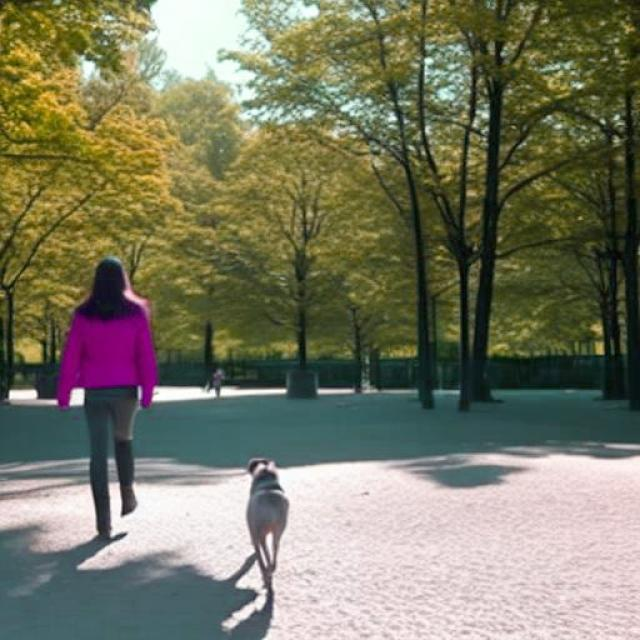Unleashed_Dog: (88, 378, 290, 576)
